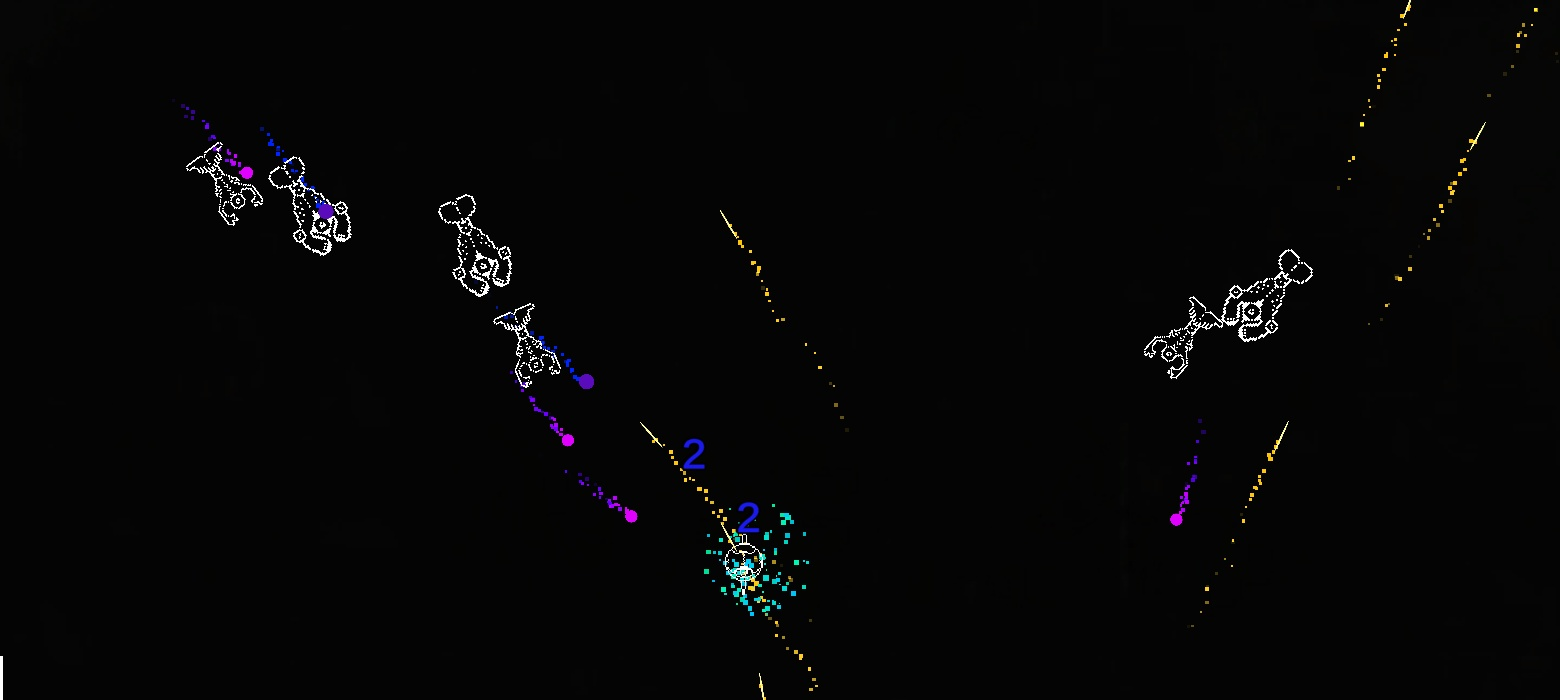enemy: (267, 156, 352, 256), (1222, 249, 1313, 342), (438, 194, 512, 297), (1144, 296, 1223, 379), (185, 141, 263, 225), (493, 303, 562, 389), (725, 534, 764, 595)
